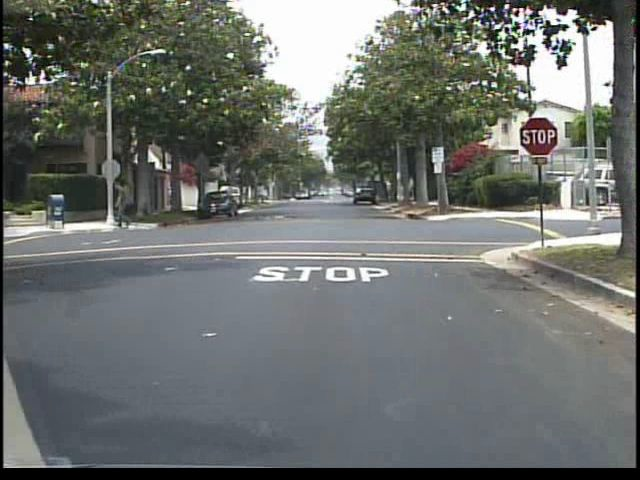person: (109, 174, 136, 233)
